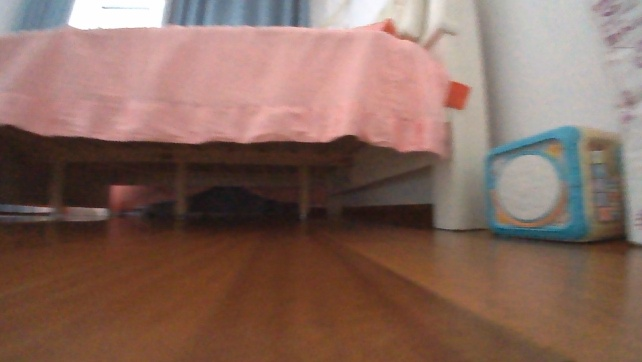bed1: (0, 0, 495, 239)
